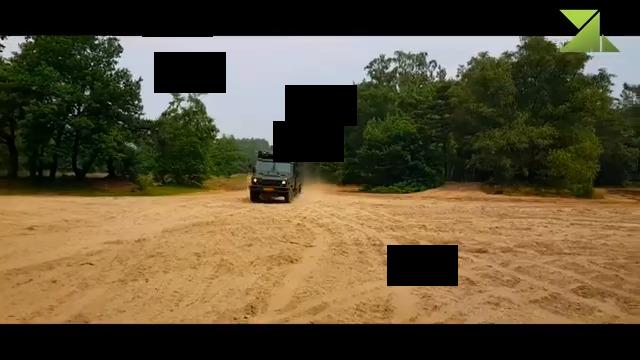MIL_HMMWV: (248, 150, 305, 204)
